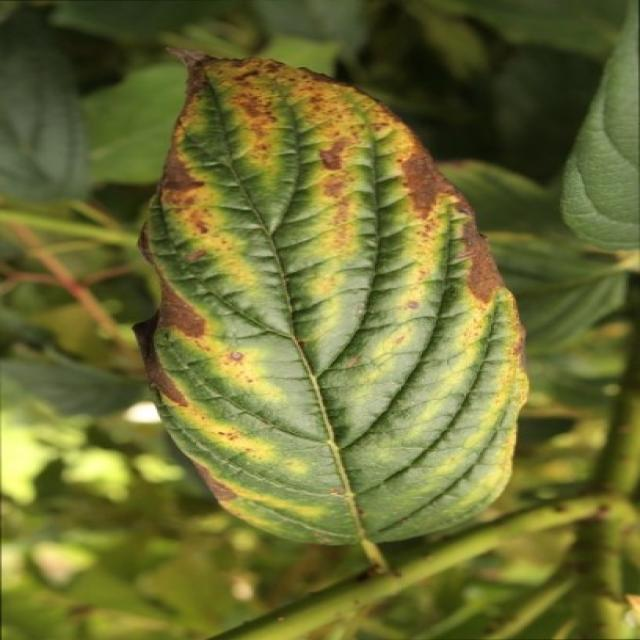Chlorosis: (132, 36, 522, 582)
